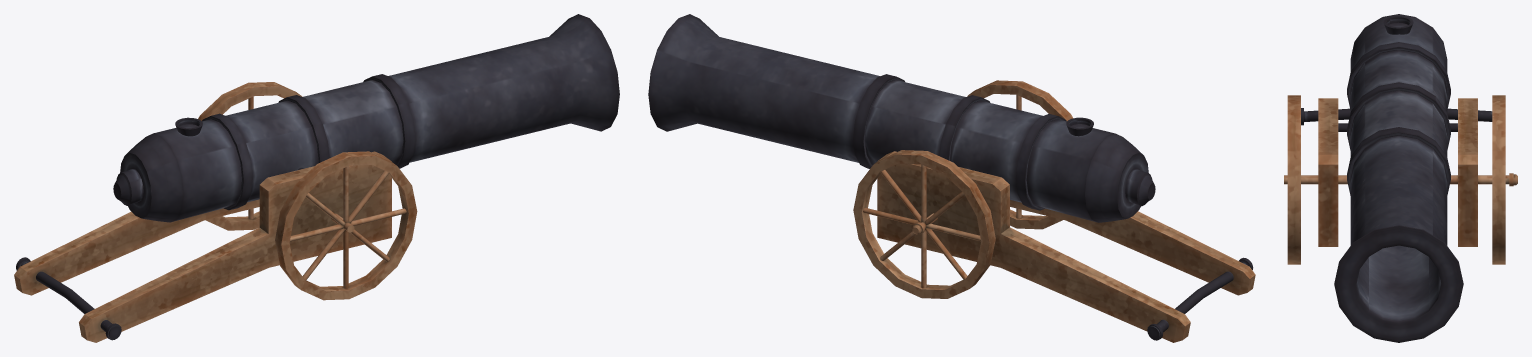
The model's file is Cannon_01.fbx.
The picture shows the model from 3 angles, left to right: view 1: azimuth 30°, elevation 25°; view 2: azimuth 150°, elevation 25°; view 3: azimuth 270°, elevation 25°; orthographic projection. The views are drawn at different scales.
Visible parts, largest first — view 1: Cannon_01; view 2: Cannon_01; view 3: Cannon_01.
Part boxes in pixels (box(x1,y1,x2,y2)): Cannon_01: box(14, 14, 619, 342); Cannon_01: box(648, 14, 1255, 342); Cannon_01: box(1284, 14, 1517, 342).
Bounding box in the file's own units: 294 × 89.06 × 102.
2 materials, 2 textured.
